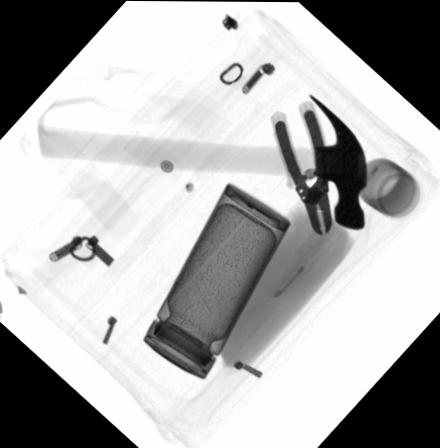Hammer: (38, 93, 368, 230)
Pliers: (269, 100, 332, 234)
